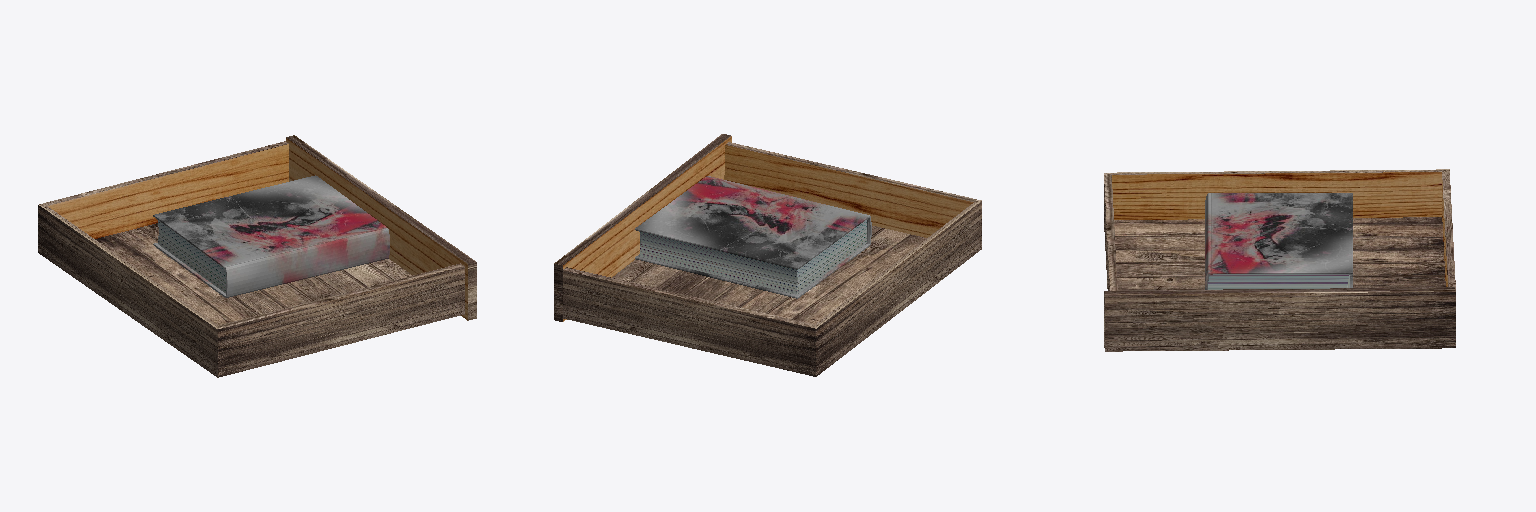
3 renders of one model, left to right at view 1: azimuth 30°, elevation 25°; view 2: azimuth 150°, elevation 25°; view 3: azimuth 270°, elevation 25°, orthographic.
Parts seen in each view (by area): view 1: polySurface20; view 2: polySurface20; view 3: polySurface20.
Boxes of the visible parts, x1,y1,x2,y2 form: polySurface20: [38, 135, 476, 377]; polySurface20: [554, 134, 981, 376]; polySurface20: [1104, 169, 1455, 351].
Bounding box in the file's own units: 0.8783 × 0.1943 × 1.01.
Materials: 5 (4 with a texture image).